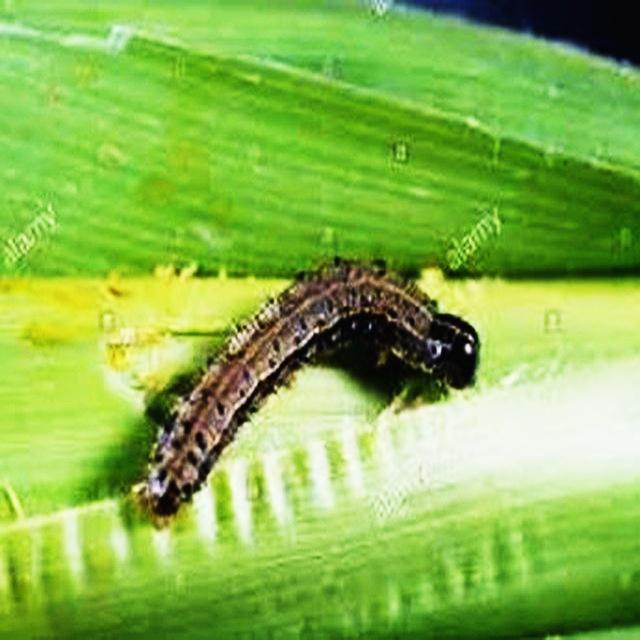worm: (131, 253, 482, 528)
